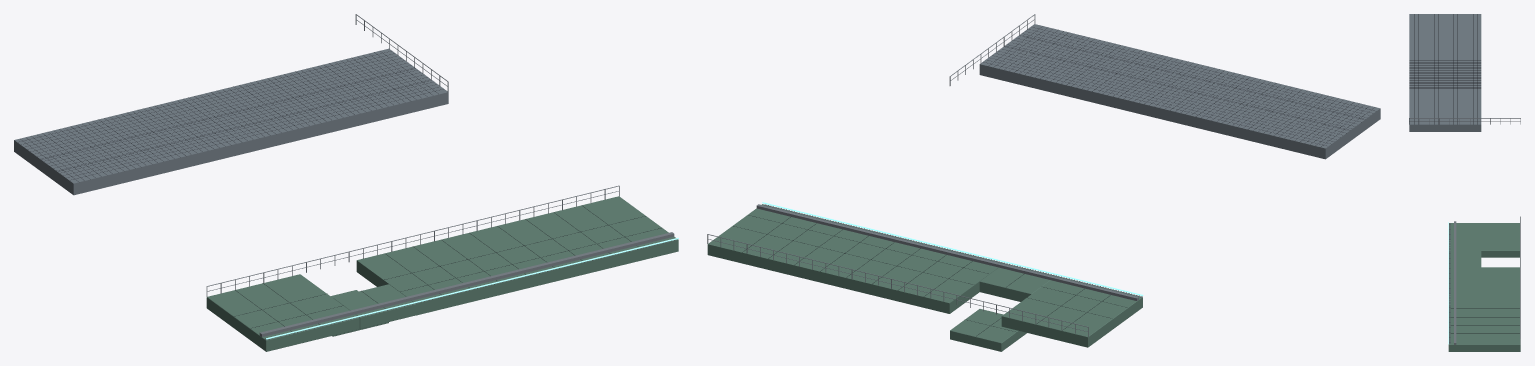
The picture shows the model from 3 angles, left to right: view 1: azimuth 30°, elevation 25°; view 2: azimuth 150°, elevation 25°; view 3: azimuth 270°, elevation 25°; orthographic projection. The views are drawn at different scales.
Parts seen in each view (by area): view 1: p0_m2; view 2: p0_m2; view 3: p0_m2.
Boxes of the visible parts, x1,y1,x2,y2 form: p0_m2: [14, 14, 678, 351]; p0_m2: [707, 14, 1380, 351]; p0_m2: [1409, 14, 1520, 351].
Size of the model in its own units: 68.03 by 29.11 by 17.06.
